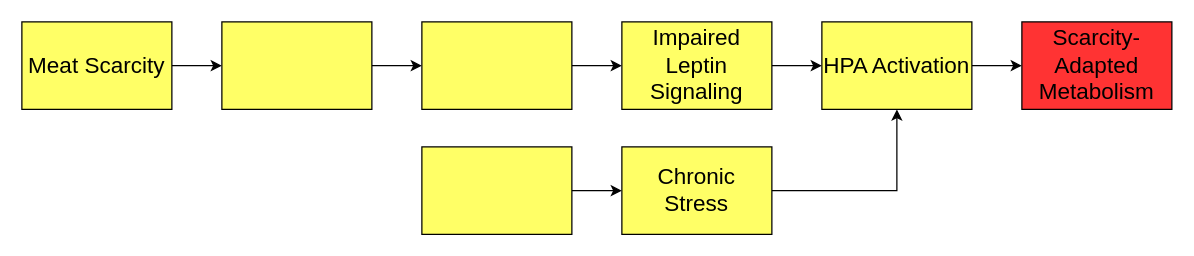
This 1194x256 diagram has some shape labels left out. The centre of each missing label's shape, as x and y in pixels:
"Harsh Environment" goes at pixel 496 190.
"Hypothalamic Oxidative Stress" goes at pixel 496 65.
"Lower Antioxidant Intake" goes at pixel 296 65.
